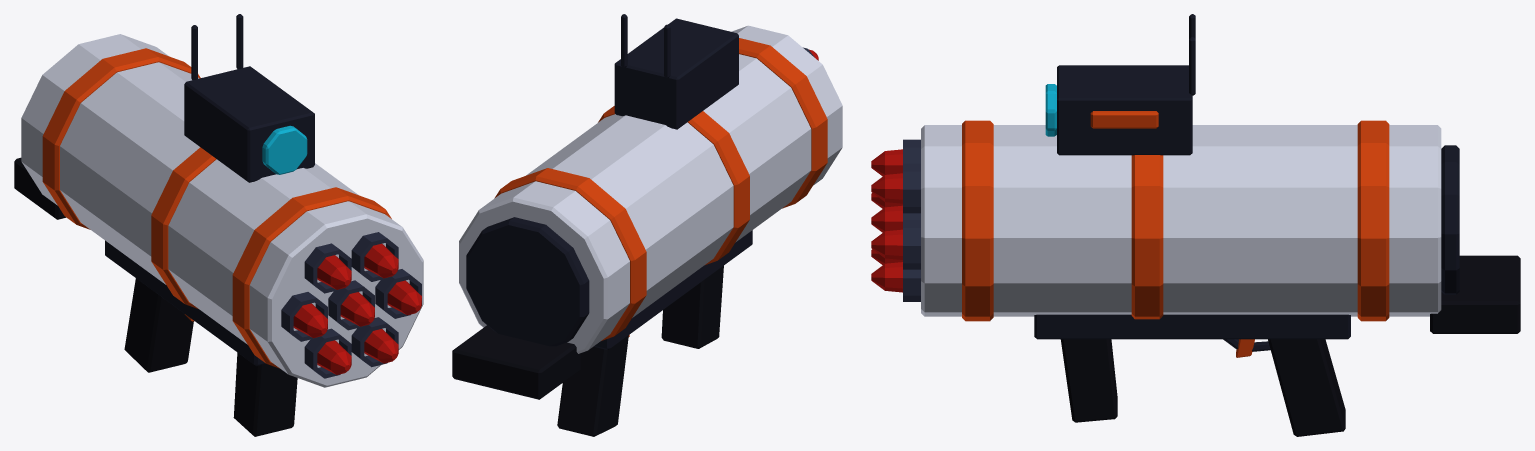
Rendered from myw_swarmlauncher.obj.
The picture shows the model from 3 angles, left to right: view 1: azimuth 30°, elevation 25°; view 2: azimuth 150°, elevation 25°; view 3: azimuth 270°, elevation 25°; orthographic projection. The views are drawn at different scales.
Parts seen in each view (by area): view 1: Pod, Missiles, Sight, Grips; view 2: Pod, Grips, Sight; view 3: Pod, Grips, Sight, Missiles.
Boxes of the visible parts, x1,y1,x2,y2 form: Pod: (21, 34, 423, 387); Missiles: (281, 232, 421, 378); Sight: (184, 14, 314, 182); Grips: (14, 157, 297, 436); Pod: (459, 25, 842, 353); Grips: (452, 230, 752, 436); Sight: (614, 14, 738, 129); Pod: (921, 120, 1459, 321); Grips: (1034, 255, 1520, 436); Sight: (1045, 14, 1195, 155); Missiles: (871, 139, 920, 301).
Bounding box in the file's own units: 0.8693 × 1.96 × 2.87.
